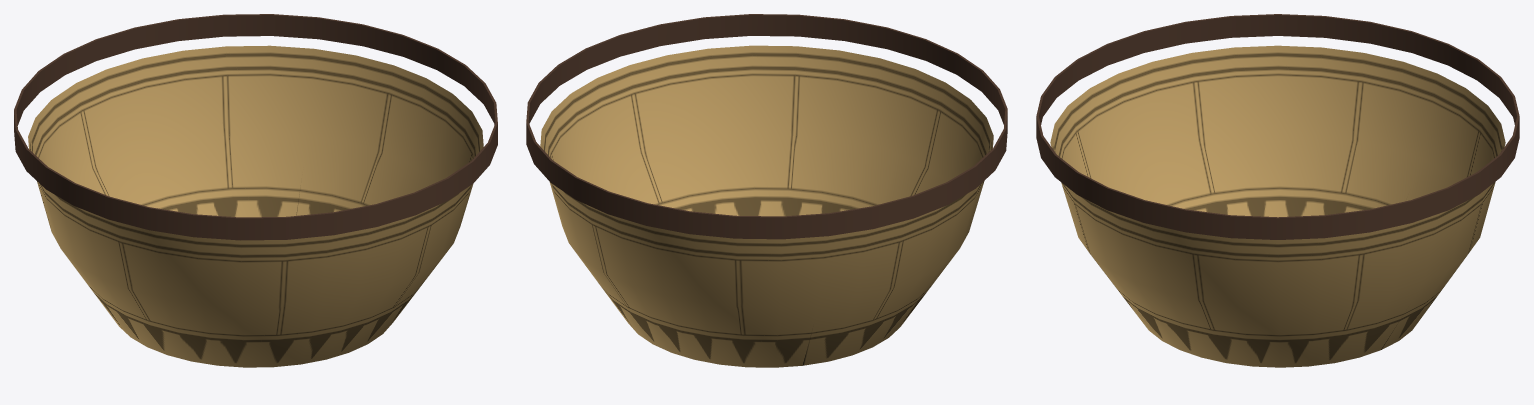
Rendered from Pot.fbx.
3 views of the same model, side by side, from view 1: azimuth 30°, elevation 25°; view 2: azimuth 150°, elevation 25°; view 3: azimuth 270°, elevation 25° (orthographic).
Parts seen in each view (by area): view 1: Pot; view 2: Pot; view 3: Pot.
Boxes of the visible parts, bbox=[...] form: Pot: bbox=[14, 14, 497, 367]; Pot: bbox=[526, 14, 1007, 367]; Pot: bbox=[1036, 14, 1519, 367].
Bounding box in the file's own units: 2 × 0.9676 × 2.
